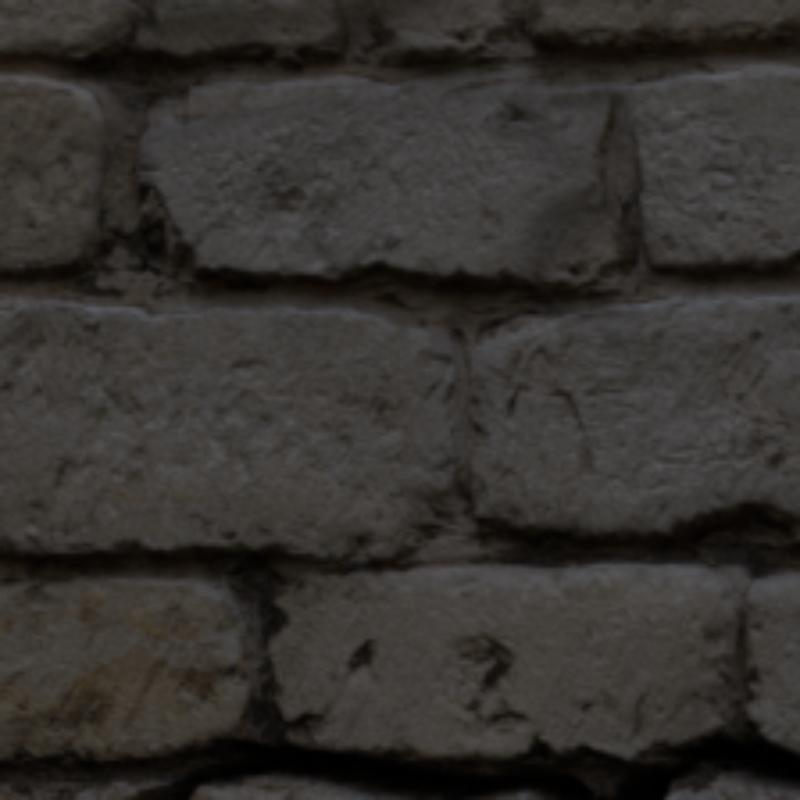crack: (129, 725, 796, 796)
